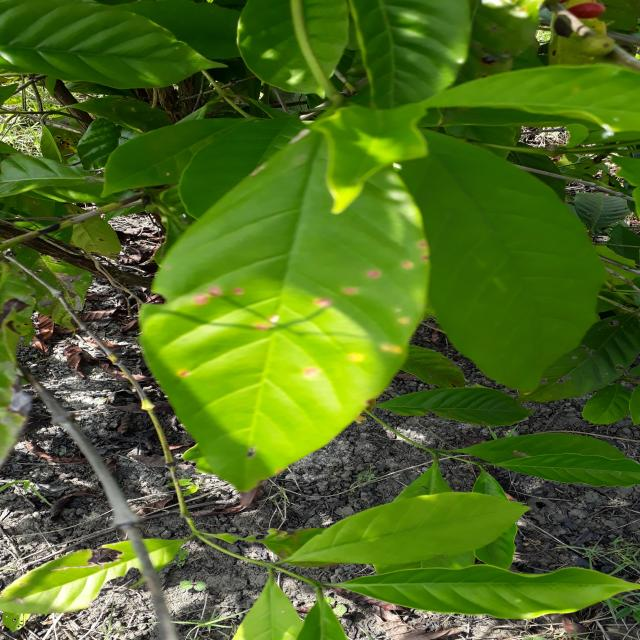Enfermedad-Roya: (140, 130, 414, 495)
